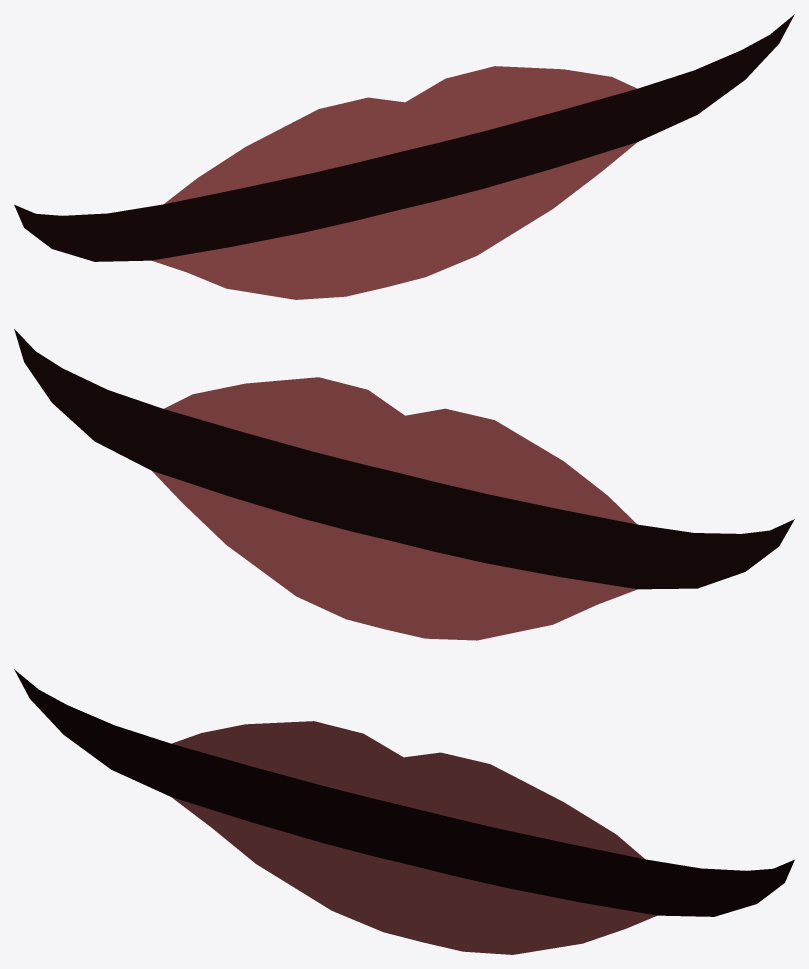
The model's file is mouth_prettypolite_smile.glb.
3 views of the same model, one above another, from view 1: azimuth 30°, elevation 25°; view 2: azimuth 150°, elevation 25°; view 3: azimuth 330°, elevation 25° (orthographic).
Visible parts, largest first — view 1: Pretty Polite smile; view 2: Pretty Polite smile; view 3: Pretty Polite smile.
Part boxes in pixels (x1,y1,x2,y2): Pretty Polite smile: [14, 14, 794, 299]; Pretty Polite smile: [14, 329, 794, 640]; Pretty Polite smile: [14, 669, 794, 954].
Bounding box in the file's own units: 0.084 × 0.0221 × 0.00394.
